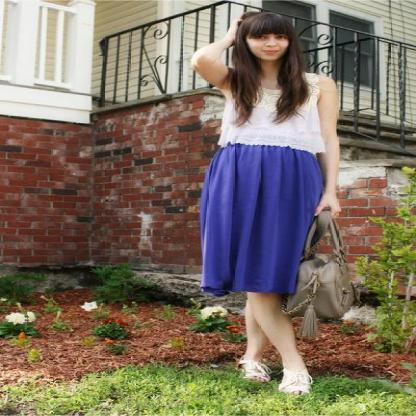bag: (292, 208, 368, 316)
shirt: (216, 92, 324, 154)
shoe: (239, 358, 318, 394)
skirt: (198, 142, 326, 307)
